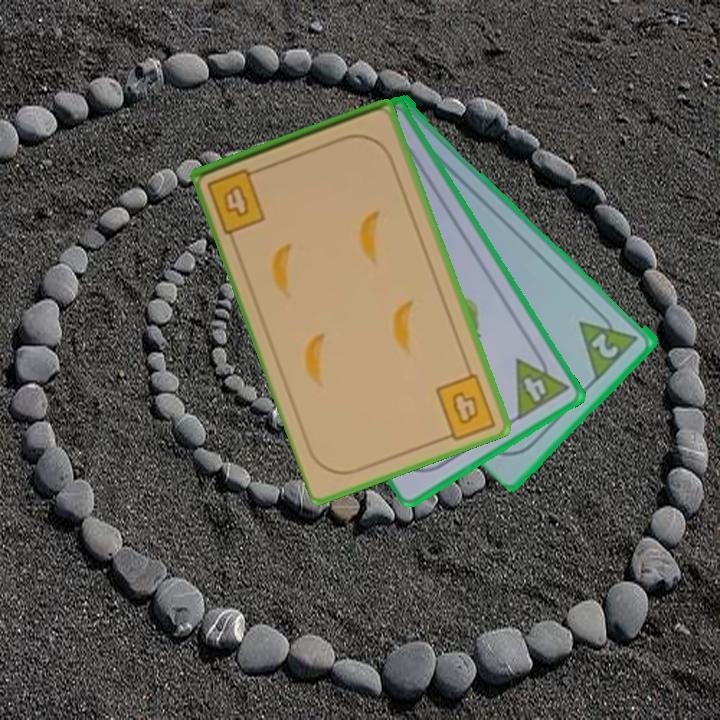2p: (588, 328, 622, 362)
4b: (432, 369, 499, 444), (203, 164, 269, 236)
4p: (512, 344, 572, 423)
